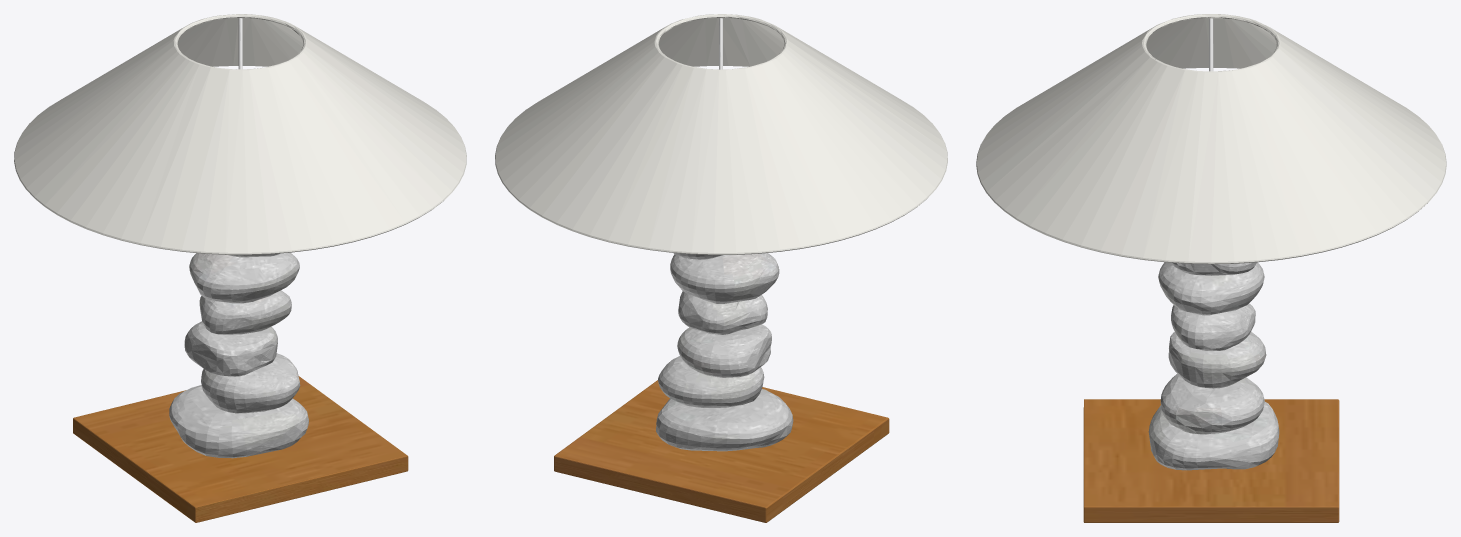
Rendered from sh-bsby-lamp.glb.
3 views of the same model, side by side, from view 1: azimuth 30°, elevation 25°; view 2: azimuth 150°, elevation 25°; view 3: azimuth 270°, elevation 25° (orthographic). The views are drawn at different scales.
Parts seen in each view (by area): view 1: Cylinder.002, Cube, Sphere.006; view 2: Cylinder.002, Cube, Sphere.006; view 3: Cylinder.002, Cube, Sphere.006.
Boxes of the visible parts, x1,y1,x2,y2 form: Cylinder.002: (14,14,466,254); Cube: (73,376,408,522); Sphere.006: (169,252,308,458); Cylinder.002: (495,14,947,254); Cube: (554,380,889,522); Sphere.006: (656,253,793,451); Cylinder.002: (976,14,1446,264); Cube: (1083,399,1339,522); Sphere.006: (1148,262,1279,470).
Size of the model in its own units: 1 by 1 by 1.
Materials: 4 (2 with a texture image).
